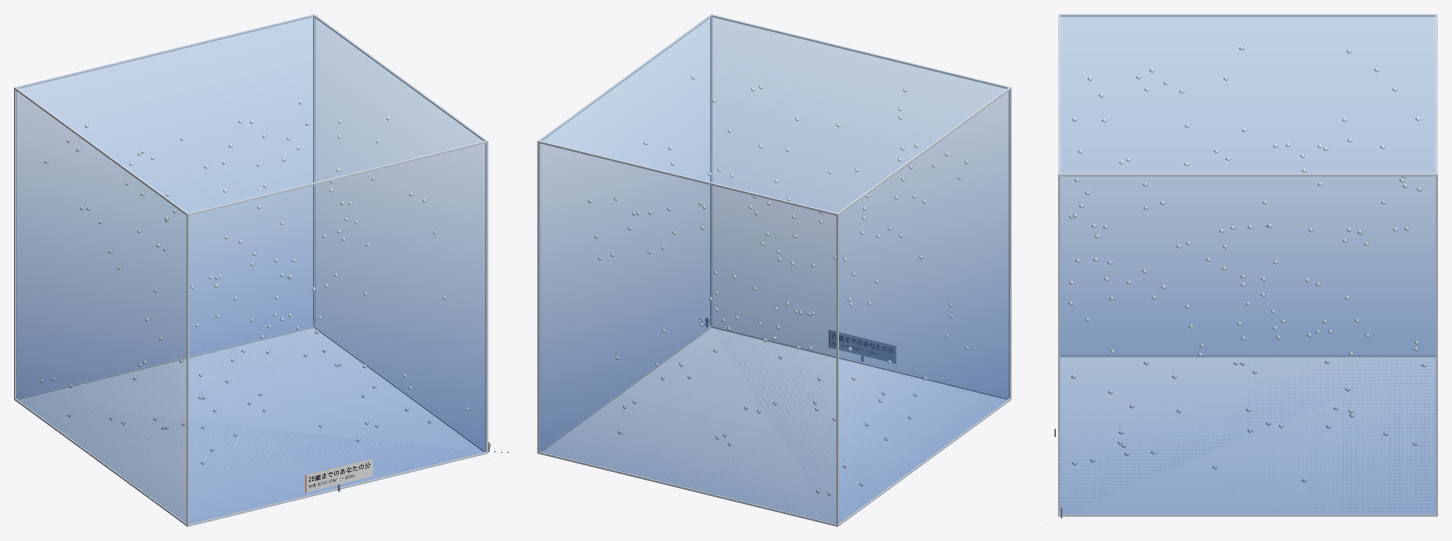
The model's file is cube_life_29.glb.
3 renders of one model, left to right at view 1: azimuth 30°, elevation 25°; view 2: azimuth 150°, elevation 25°; view 3: azimuth 270°, elevation 25°, orthographic. The views are drawn at different scales.
Visible parts, largest first — view 1: co2, edge, dots, label; view 2: co2, edge, dots, label; view 3: co2, edge, dots.
Part boxes in pixels (x1,y1,x2,y2): co2: (16,15,485,523); edge: (14,14,488,526); dots: (40,100,469,464); label: (305,458,372,492); co2: (540,15,1009,523); edge: (537,14,1011,526); dots: (588,75,969,496); label: (829,330,895,363); co2: (1060,15,1435,513); edge: (1058,14,1437,516); dots: (1068,46,1426,482).
Size of the model in its own units: 56.57 by 52.85 by 55.67.
Materials: 8 (3 with a texture image).
